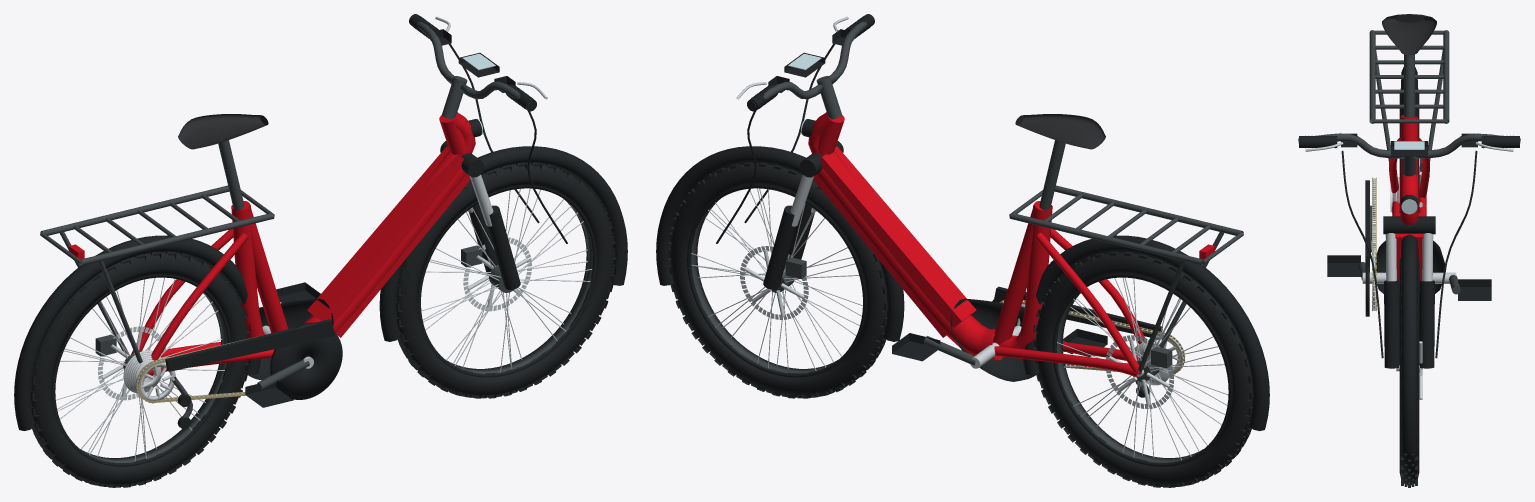
File: specialized-turbo-como.glb
3 views of the same model, side by side, from view 1: azimuth 30°, elevation 25°; view 2: azimuth 150°, elevation 25°; view 3: azimuth 270°, elevation 25° (orthographic). The views are drawn at different scales.
Parts seen in each view (by area): view 1: RearWheel | rubber, FrontWheel | rubber, Bodywork | black, BatteryMount | red, Chassis | red, Drive | black, Bodywork | graphite, FrontWheel | steel, RearWheel | steel, FrontWheel | black, Fork | black, RearWheel | black (+11 smaller); view 2: RearWheel | rubber, FrontWheel | rubber, Bodywork | black, BatteryMount | red, Chassis | red, Bodywork | graphite, FrontWheel | steel, RearWheel | steel, FrontWheel | black, RearWheel | black, Drive | black, Fork | black (+10 smaller); view 3: Bodywork | black, Bodywork | graphite, Fork | black, Drive | black, Chassis | red, Cockpit | rubber, FrontWheel | rubber, Bodywork | seat, Cockpit | graphite, Fork | steel, Drive | steel, Cockpit | black (+7 smaller).
Part boxes in pixels (box(x1,y1,x2,y2)): RearWheel | rubber: box(30, 251, 250, 487); FrontWheel | rubber: box(396, 162, 616, 398); Bodywork | black: box(14, 119, 627, 430); BatteryMount | red: box(303, 146, 470, 337); Chassis | red: box(131, 112, 475, 375); Drive | black: box(165, 282, 342, 429); Bodywork | graphite: box(40, 185, 274, 363); FrontWheel | steel: box(421, 188, 592, 372); RearWheel | steel: box(56, 277, 224, 461); FrontWheel | black: box(418, 185, 596, 377); Fork | black: box(440, 141, 520, 289); RearWheel | black: box(52, 274, 231, 466); RearWheel | rubber: box(1032, 251, 1253, 487); FrontWheel | rubber: box(667, 162, 887, 398); Bodywork | black: box(656, 119, 1269, 430); BatteryMount | red: box(813, 146, 1002, 360); Chassis | red: box(808, 112, 1144, 377); Bodywork | graphite: box(1009, 185, 1243, 374); FrontWheel | steel: box(691, 188, 862, 370); RearWheel | steel: box(1057, 277, 1228, 460); FrontWheel | black: box(687, 185, 865, 377); RearWheel | black: box(1052, 274, 1231, 466); Drive | black: box(892, 286, 1162, 397); Fork | black: box(763, 141, 843, 289); Bodywork | black: box(1401, 67, 1417, 453); Bodywork | graphite: box(1369, 30, 1449, 160); Fork | black: box(1383, 216, 1435, 368); Drive | black: box(1327, 180, 1491, 316); Chassis | red: box(1389, 114, 1429, 226); Cockpit | rubber: box(1299, 136, 1519, 358); FrontWheel | rubber: box(1399, 249, 1419, 487); Bodywork | seat: box(1382, 14, 1436, 55); Cockpit | graphite: box(1298, 133, 1520, 176); Fork | steel: box(1385, 233, 1433, 281); Drive | steel: box(1362, 177, 1456, 310); Cockpit | black: box(1305, 133, 1513, 155).
Size of the model in its own units: 1.99 by 1.07 by 0.6634.
